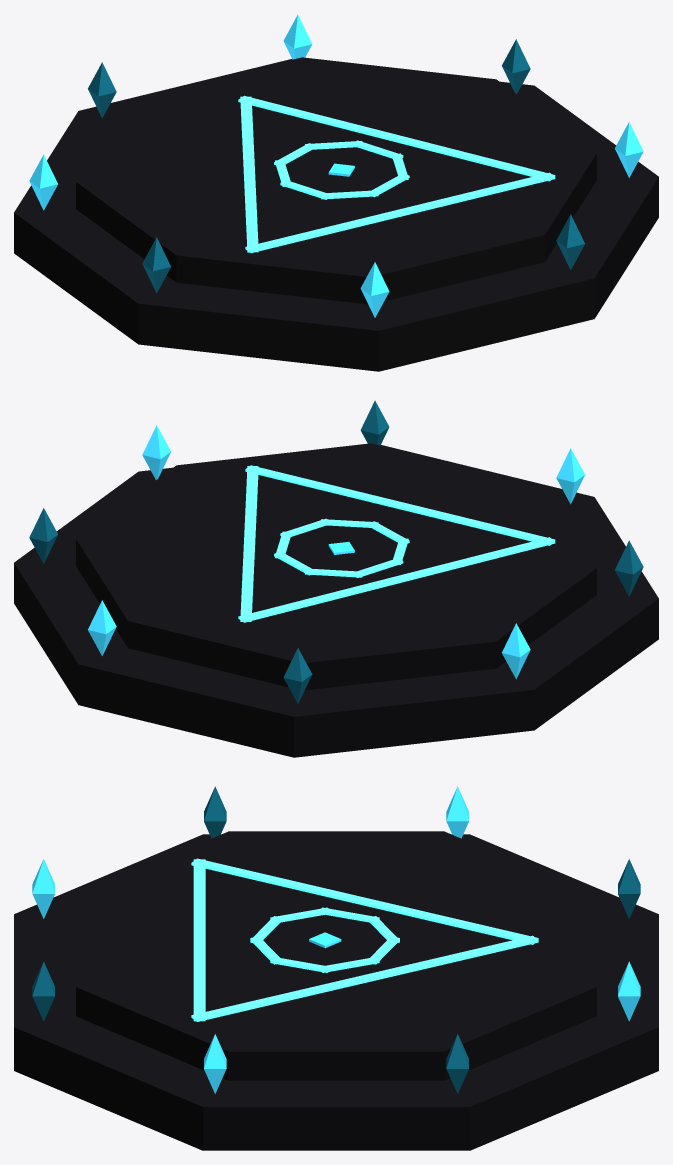
File: SM_Teleport_Pad.glb
3 views of the same model, one above another, from view 1: azimuth 30°, elevation 25°; view 2: azimuth 150°, elevation 25°; view 3: azimuth 270°, elevation 25° (orthographic). The views are drawn at different scales.
Parts seen in each view (by area): view 1: SM_Teleport_Pad; view 2: SM_Teleport_Pad; view 3: SM_Teleport_Pad.
Part boxes in pixels (x1,y1,x2,y2): SM_Teleport_Pad: (14, 14, 658, 371); SM_Teleport_Pad: (14, 400, 658, 757); SM_Teleport_Pad: (14, 786, 658, 1150).
Size of the model in its own units: 2.4 by 0.43 by 2.4.
1 material, 1 textured.
